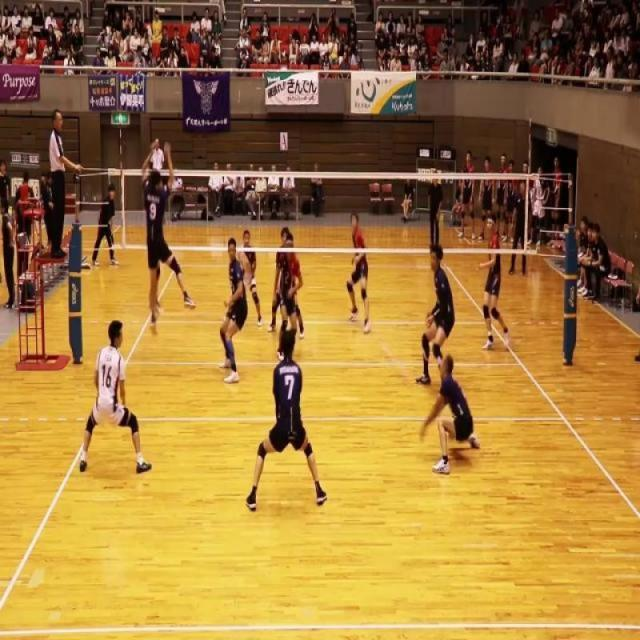volleyball: (380, 342, 410, 386)
